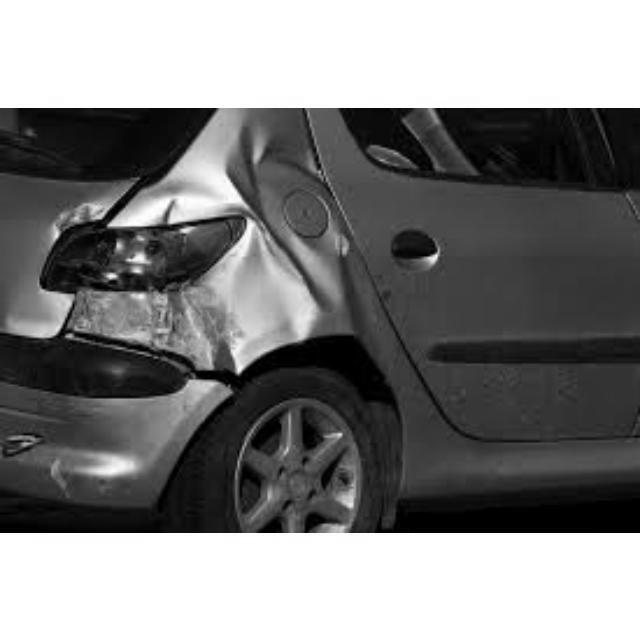Taillight-Damage: (55, 213, 241, 290)
boot-dent: (1, 177, 138, 339)
quaterpanel-dent: (225, 110, 347, 299), (99, 293, 352, 353)
